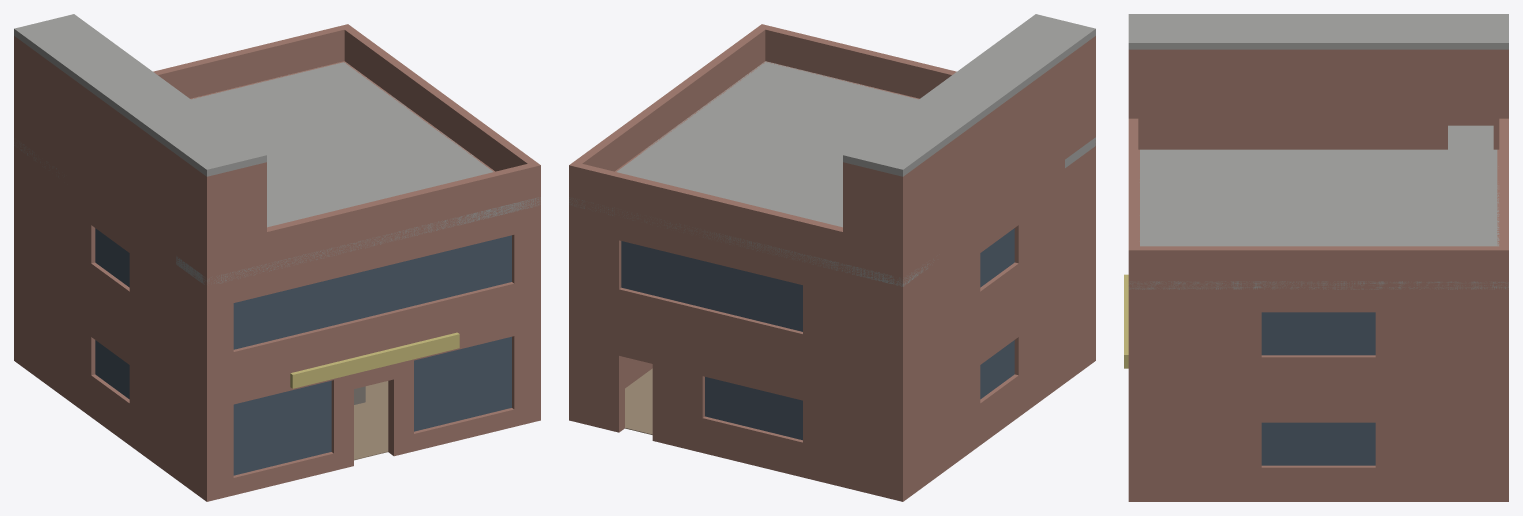
File: townhouse.lod0.glb
3 renders of one model, left to right at view 1: azimuth 30°, elevation 25°; view 2: azimuth 150°, elevation 25°; view 3: azimuth 270°, elevation 25°, orthographic.
Parts seen in each view (by area): view 1: townhouse; view 2: townhouse; view 3: townhouse.
Boxes of the visible parts, box(x1,y1,x2,y2) form: townhouse: box(14, 14, 540, 501); townhouse: box(569, 14, 1095, 501); townhouse: box(1124, 14, 1508, 501).
Bounding box in the file's own units: 10 × 9.5 × 10.12.
